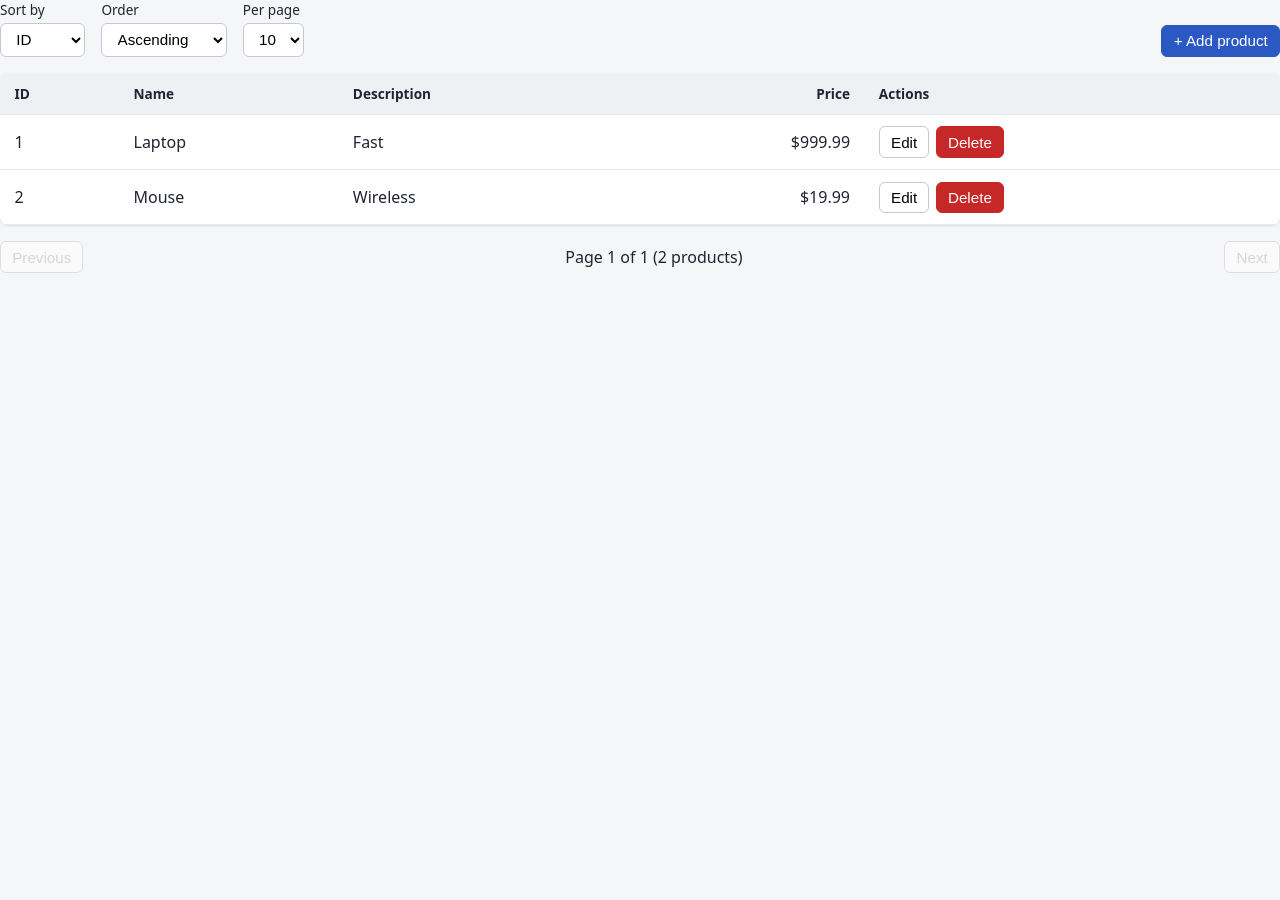
ProductList › treats "already deleted" (404) as done, not as an error
This screenshot has width=1280, height=900.
Expected: the text "Laptop" is shown, [119,115,338,170]
Click the button "Delete" in the row of "Laptop" at (970, 142), box [936,126,1004,158]
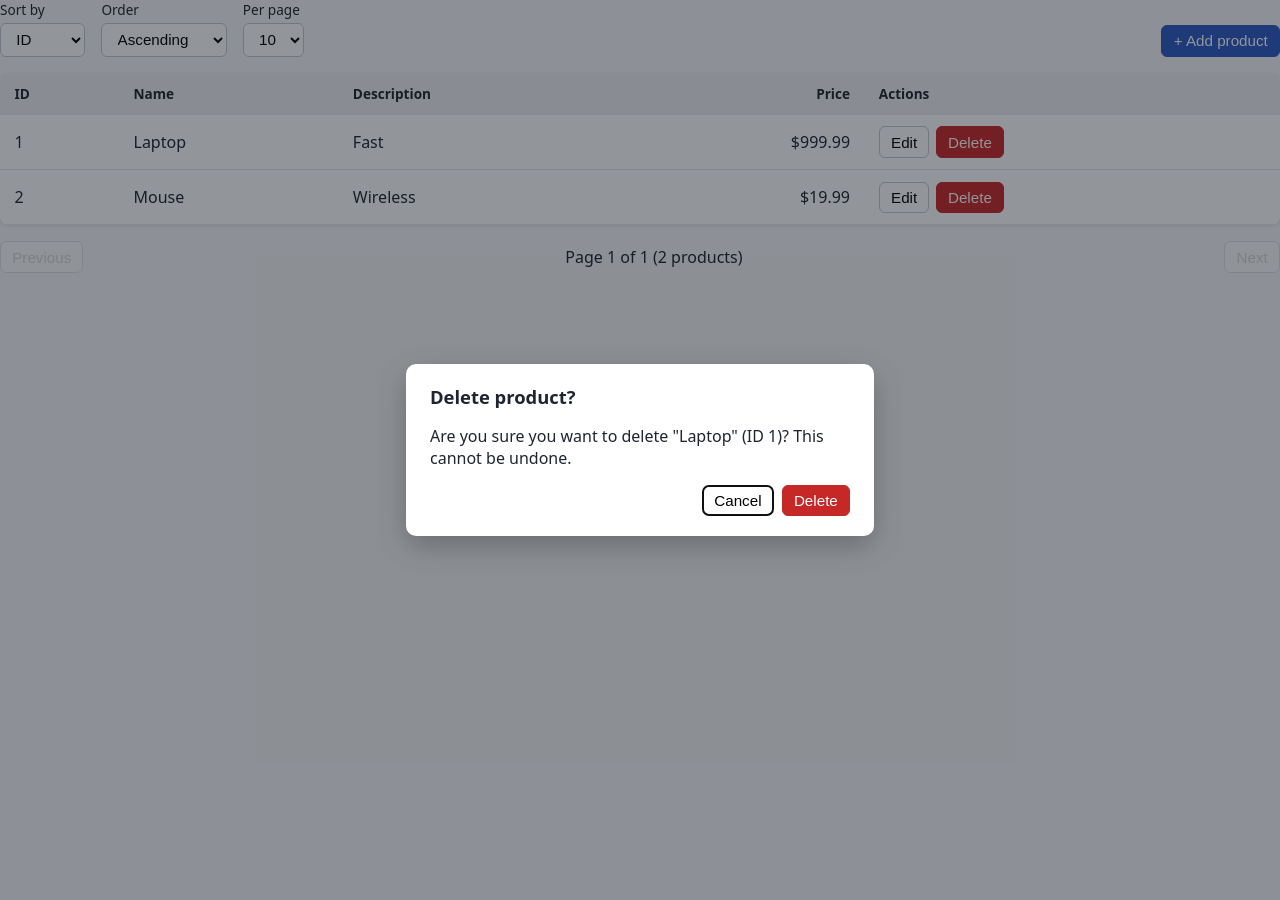
Click the button "Delete" at (816, 500), box [782,485,850,516]
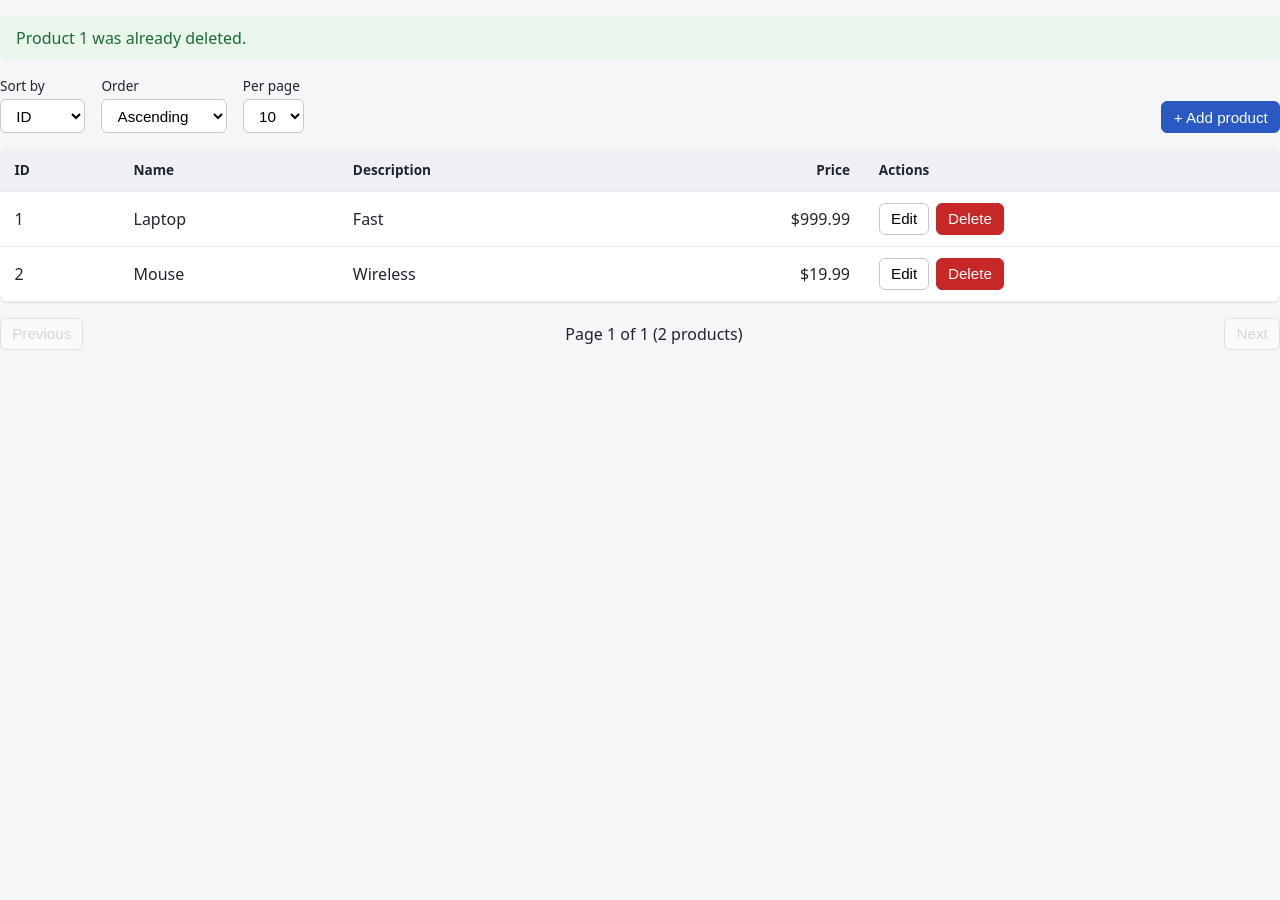
Expected: the text "Product 1 was already deleted." is shown, [0,16,1279,60]
Expected: the dialog is gone
